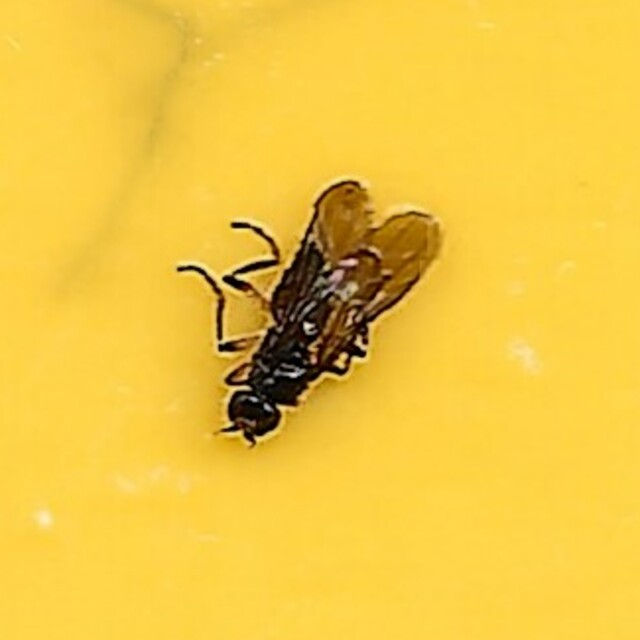Brachycera: (197, 187, 443, 453)
